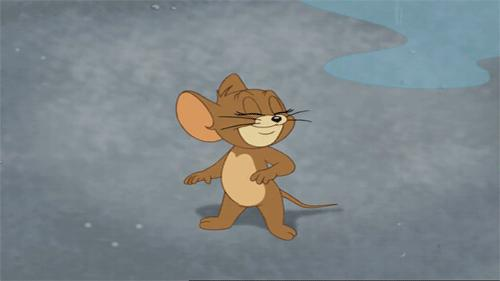jerry: (174, 72, 339, 241)
